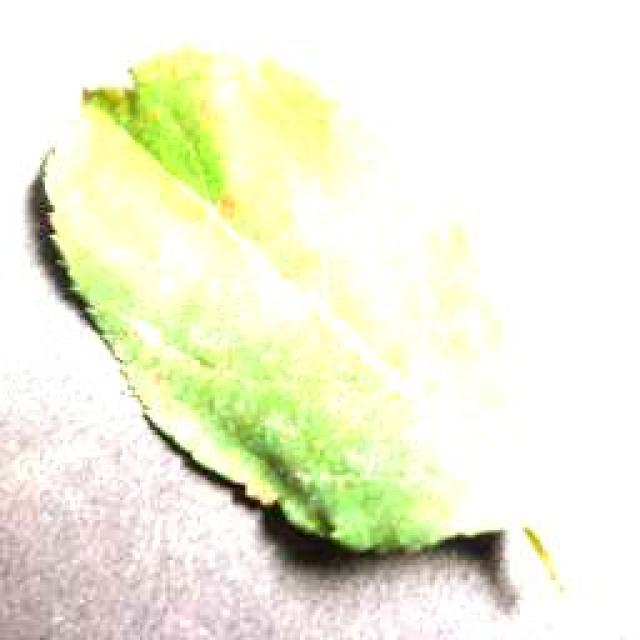apple cedar apple rust: (22, 43, 558, 595)
